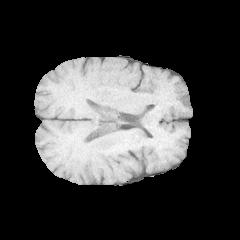glioma: (125, 94, 158, 120)
